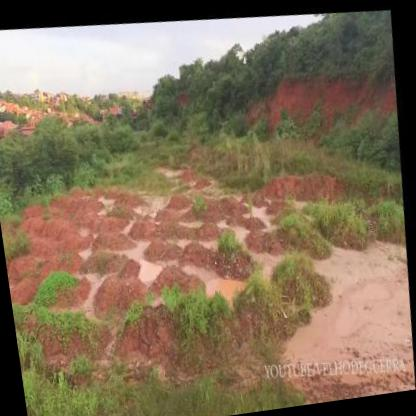agua: (186, 250, 251, 305), (139, 253, 167, 283)
